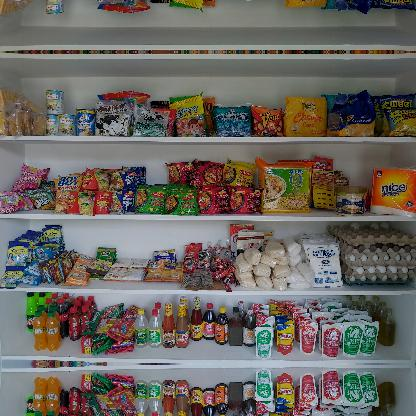Lady-s-Choice: (334, 184, 368, 216)
